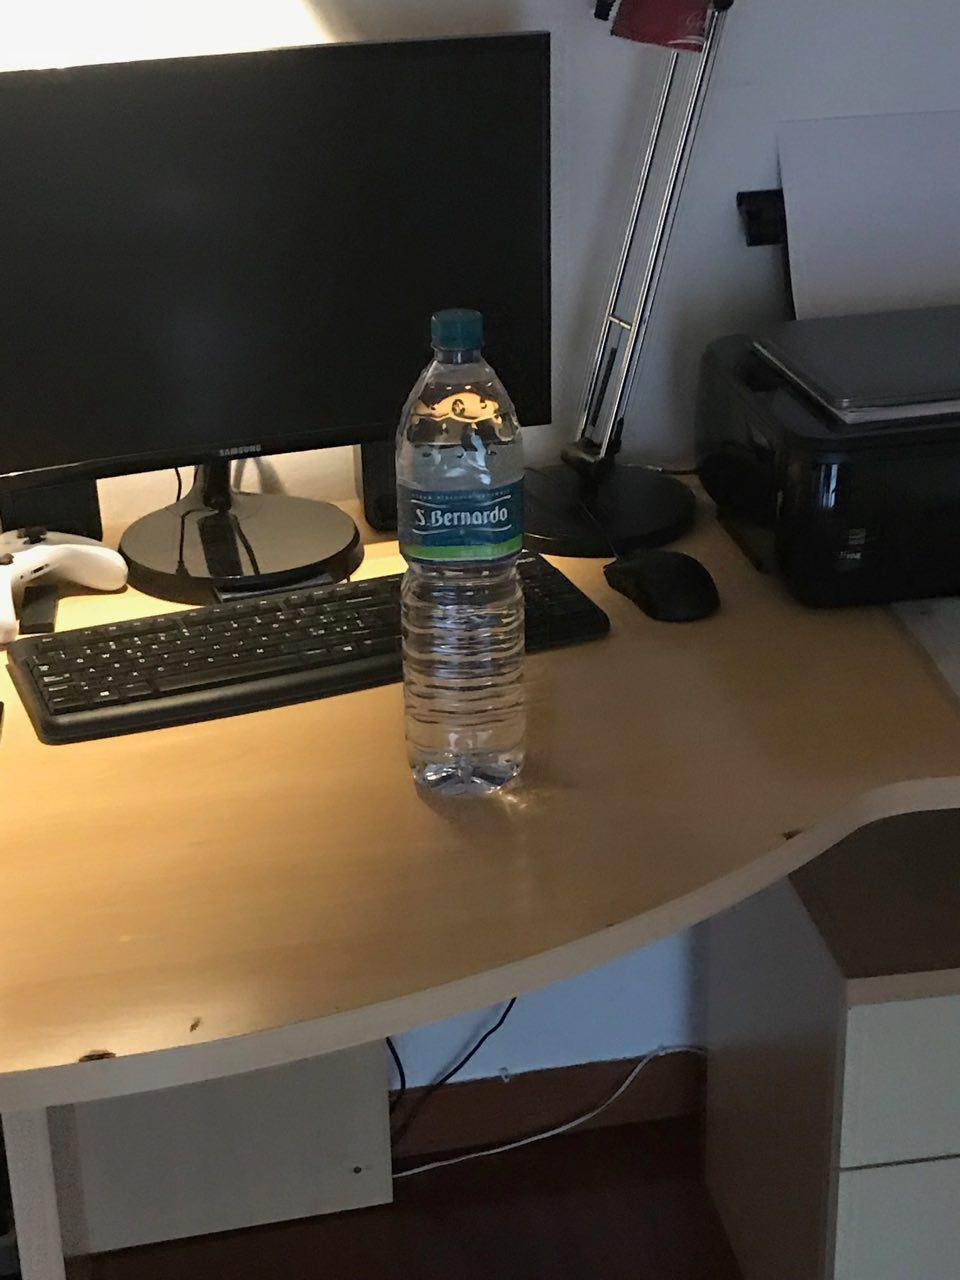san_bernardo: (395, 308, 526, 799)
